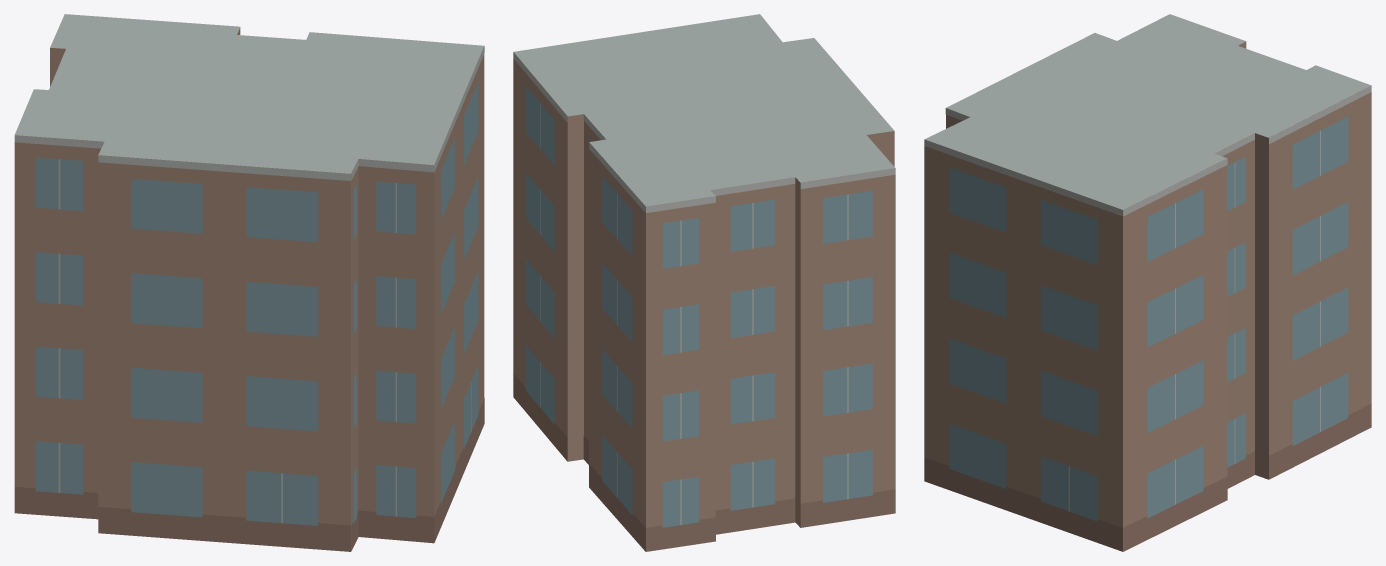
Rendered from survey-upis-32694986.glb.
3 views of the same model, side by side, from view 1: azimuth 30°, elevation 25°; view 2: azimuth 150°, elevation 25°; view 3: azimuth 270°, elevation 25° (orthographic). The views are drawn at different scales.
Parts seen in each view (by area): view 1: survey-upis-32694986.tmp; view 2: survey-upis-32694986.tmp; view 3: survey-upis-32694986.tmp.
Boxes of the visible parts, bbox=[...] form: survey-upis-32694986.tmp: bbox=[14, 14, 484, 551]; survey-upis-32694986.tmp: bbox=[513, 14, 895, 551]; survey-upis-32694986.tmp: bbox=[924, 14, 1371, 551].
Bounding box in the file's own units: 15.75 × 12.8 × 15.19.
